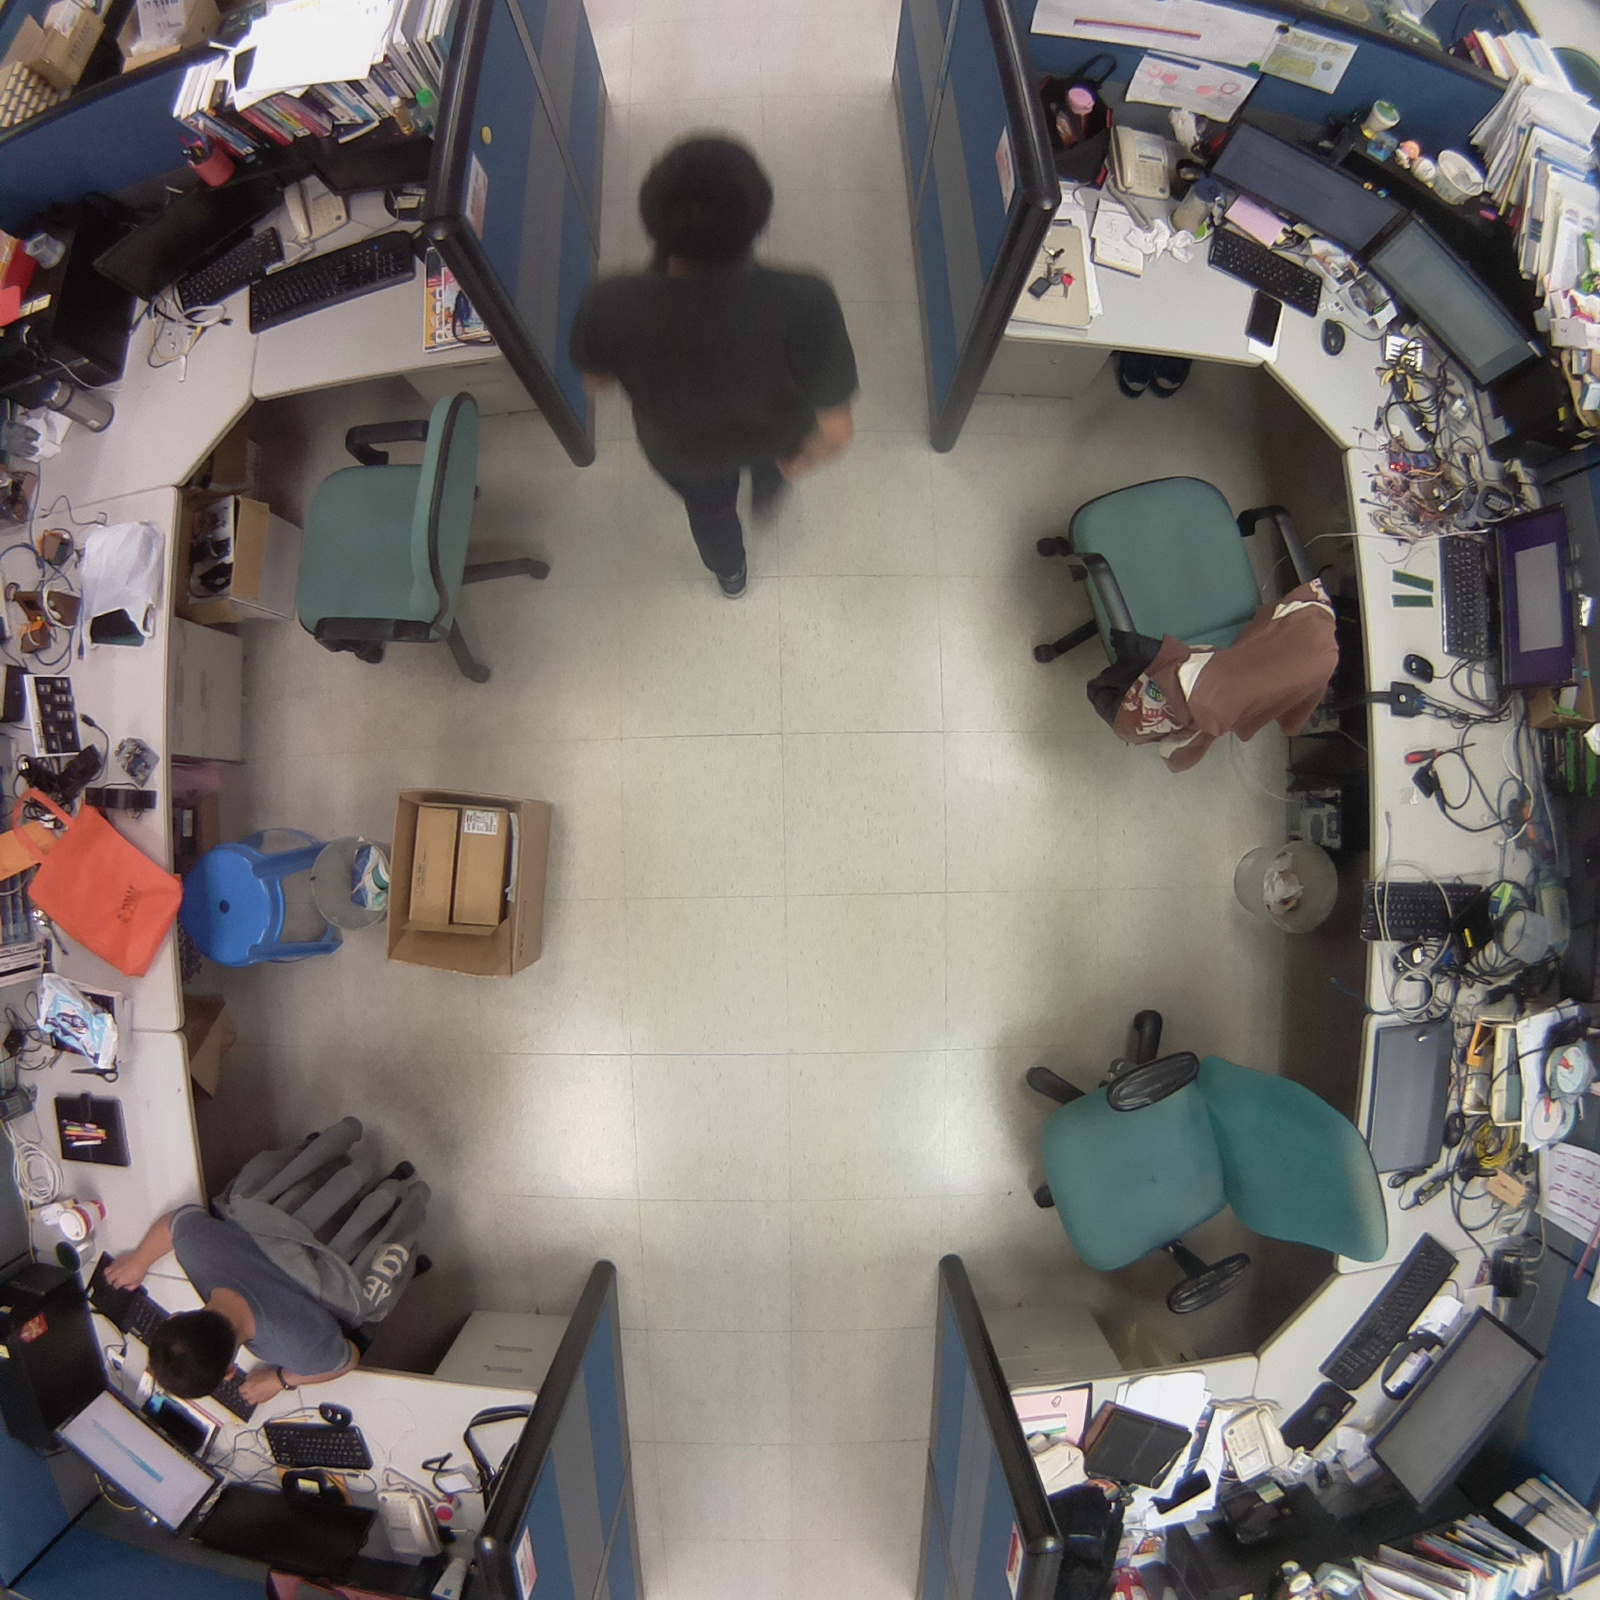chair: (994, 993, 1401, 1327), (1012, 458, 1355, 791), (276, 378, 565, 706)
head: (629, 125, 790, 267), (133, 1298, 248, 1410)
sitting: (88, 1091, 455, 1401)
walking: (553, 124, 871, 614)
